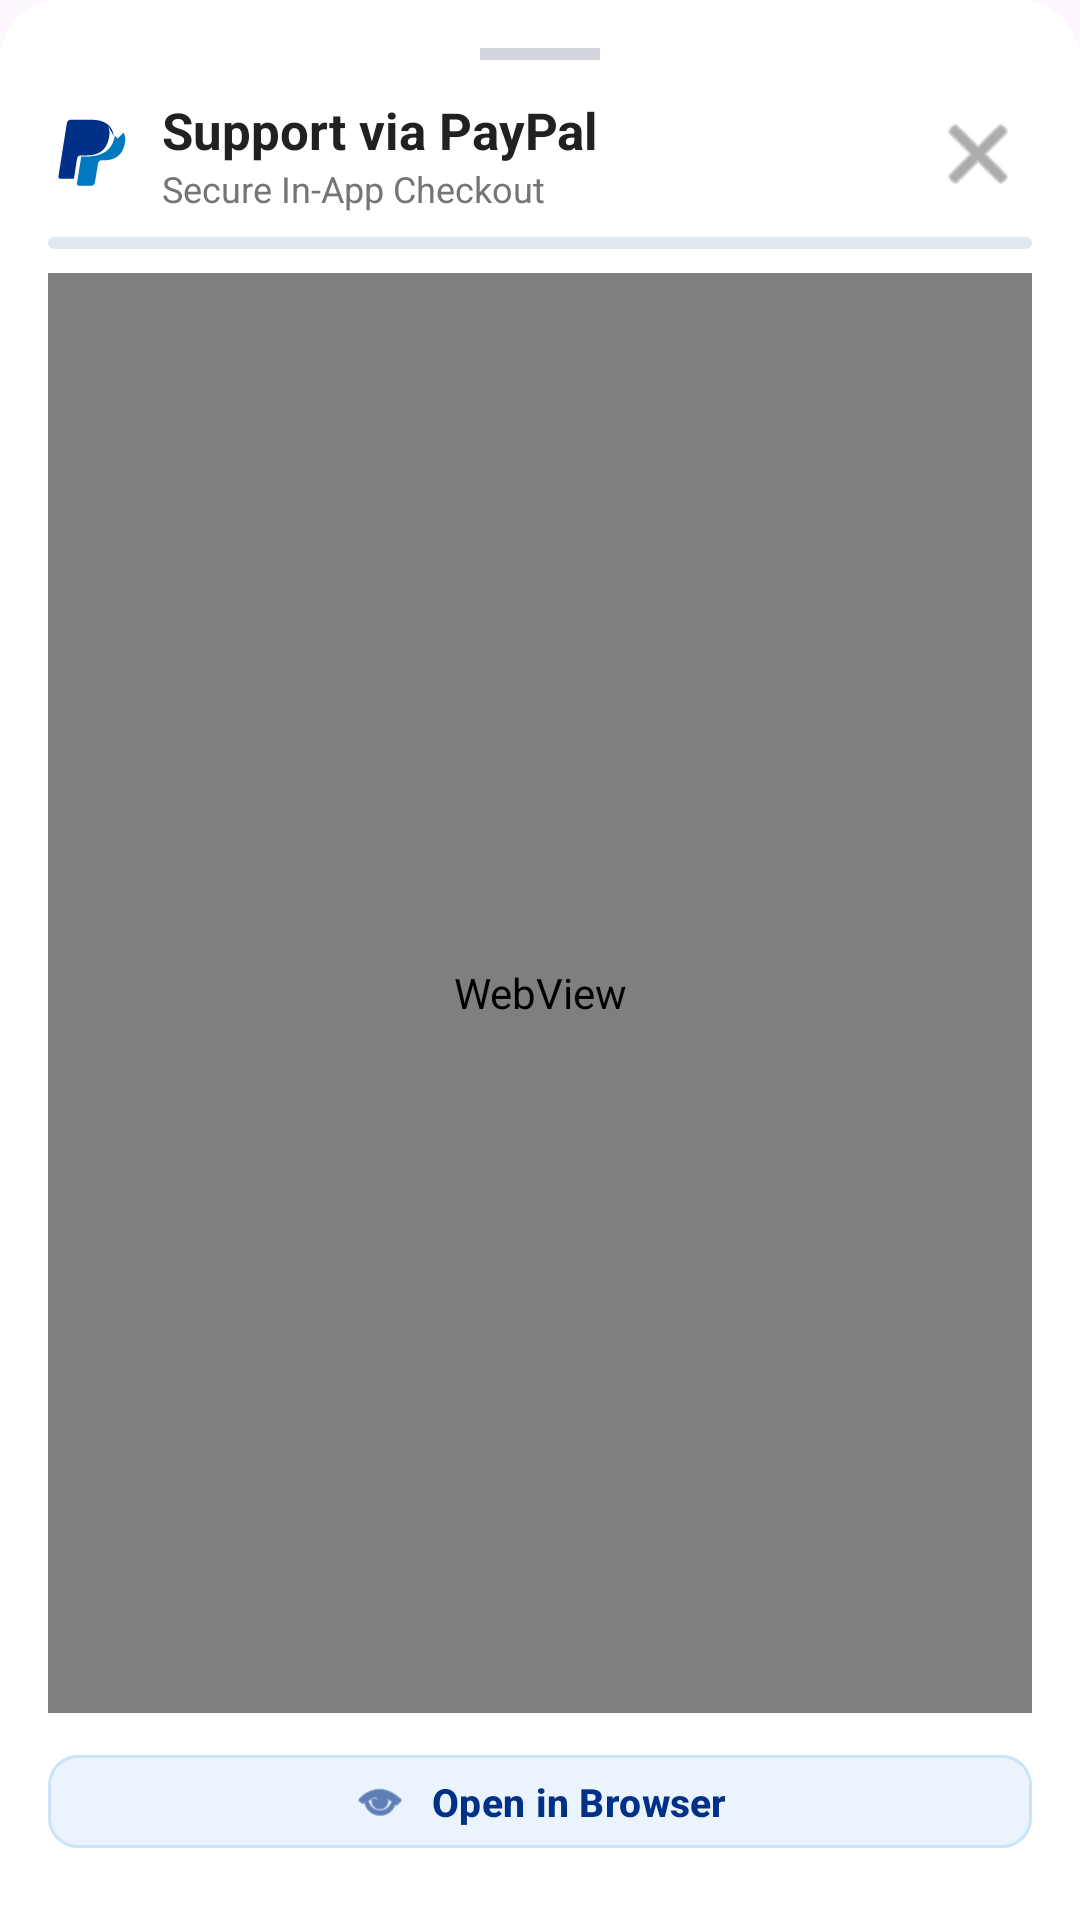

Locate icon controls on the screen. Image size 1080 × 1920, boxes as (x1, y1, x2, y2).
Close: (948, 124, 1008, 184)
